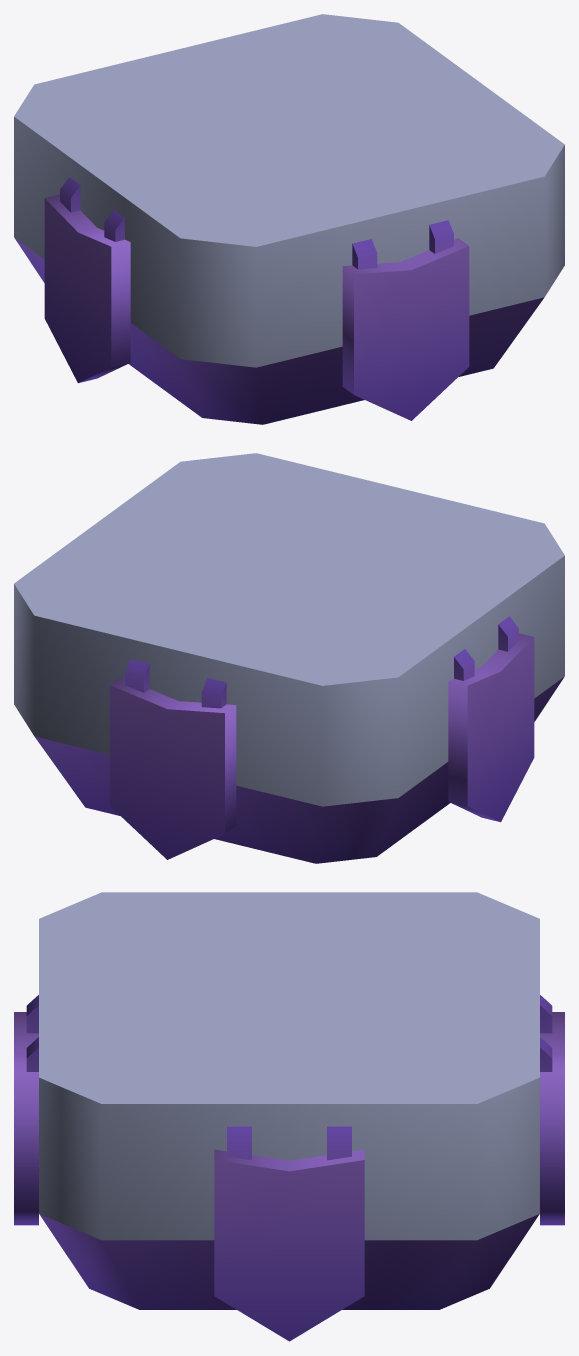
Rendered from tower-square-middle-a.glb.
3 views of the same model, one above another, from view 1: azimuth 30°, elevation 25°; view 2: azimuth 150°, elevation 25°; view 3: azimuth 270°, elevation 25° (orthographic). The views are drawn at different scales.
Visible parts, largest first — view 1: tower-square-middle-a; view 2: tower-square-middle-a; view 3: tower-square-middle-a.
Part boxes in pixels (x1,y1,x2,y2): tower-square-middle-a: [14, 14, 564, 424]; tower-square-middle-a: [14, 453, 564, 863]; tower-square-middle-a: [14, 892, 564, 1341].
Bounding box in the file's own units: 1.1 × 0.5 × 1.1.
